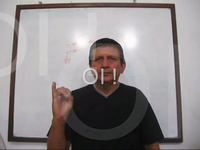oi: (51, 80, 76, 120)
